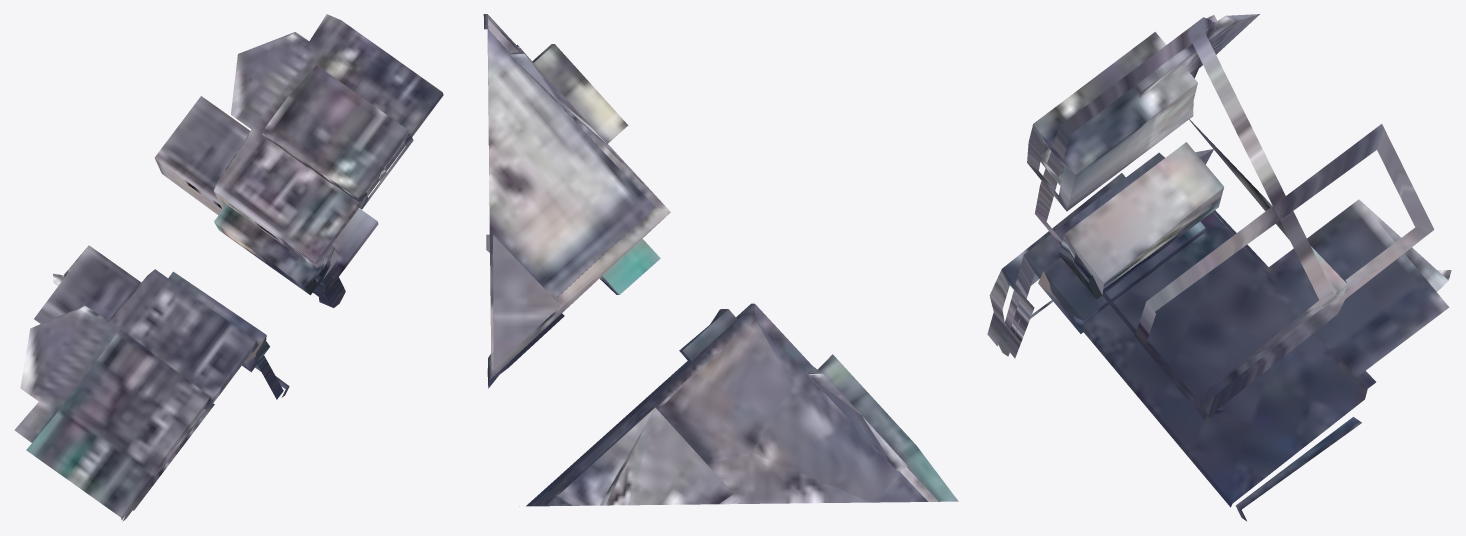
3 renders of one model, left to right at view 1: azimuth 30°, elevation 25°; view 2: azimuth 150°, elevation 25°; view 3: azimuth 270°, elevation 25°, orthographic. The views are drawn at different scales.
Size of the model in its own units: 34.9 by 31.84 by 25.4.
1 material, 1 textured.
